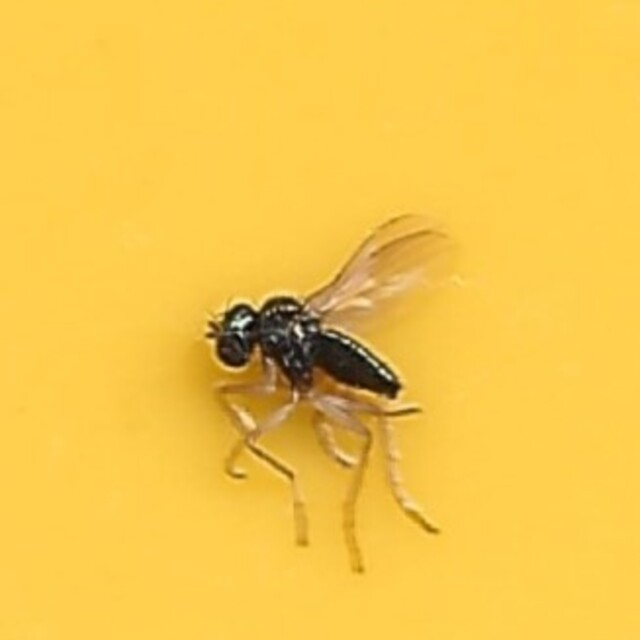Brachycera: (196, 207, 444, 433)
